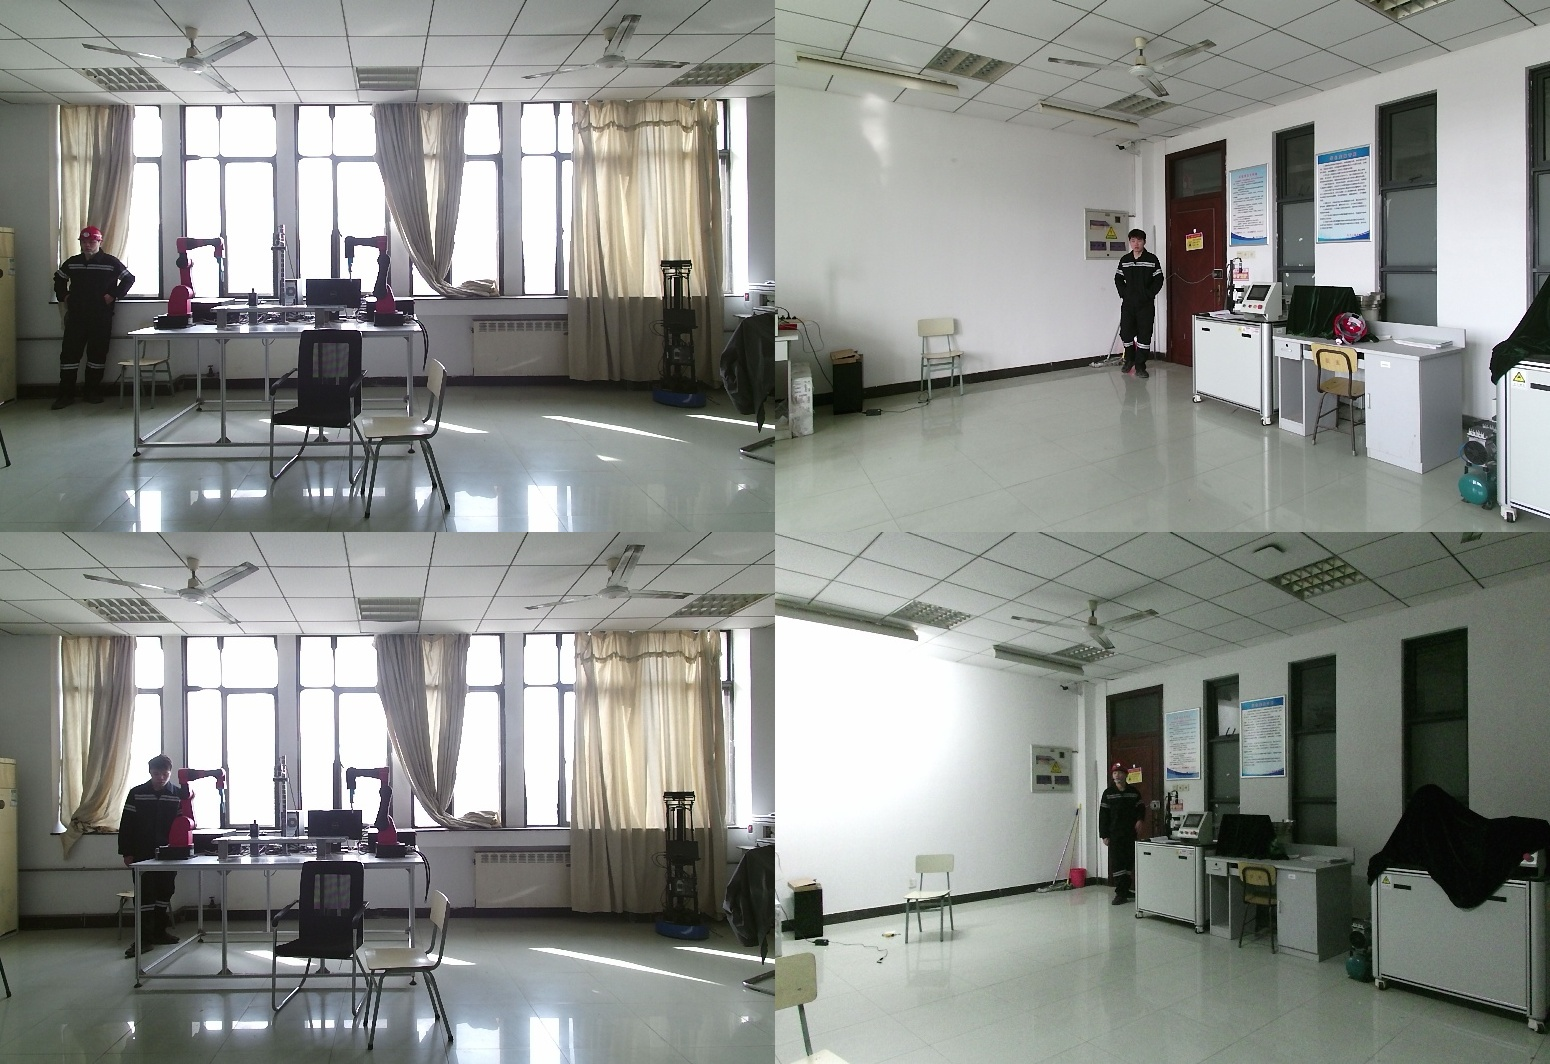person: (116, 755, 188, 960), (54, 231, 135, 404), (1096, 760, 1155, 906), (1111, 229, 1163, 382)
